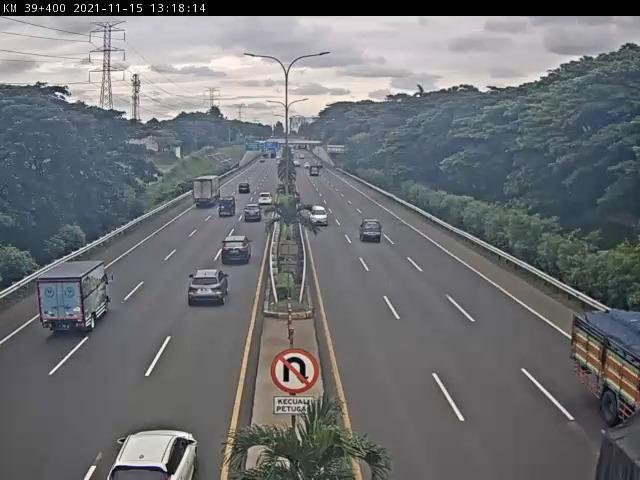car: (187, 269, 232, 309), (221, 236, 254, 266), (360, 220, 386, 243), (310, 206, 333, 229)
truck: (37, 260, 110, 335), (190, 174, 224, 208), (217, 196, 238, 220)
